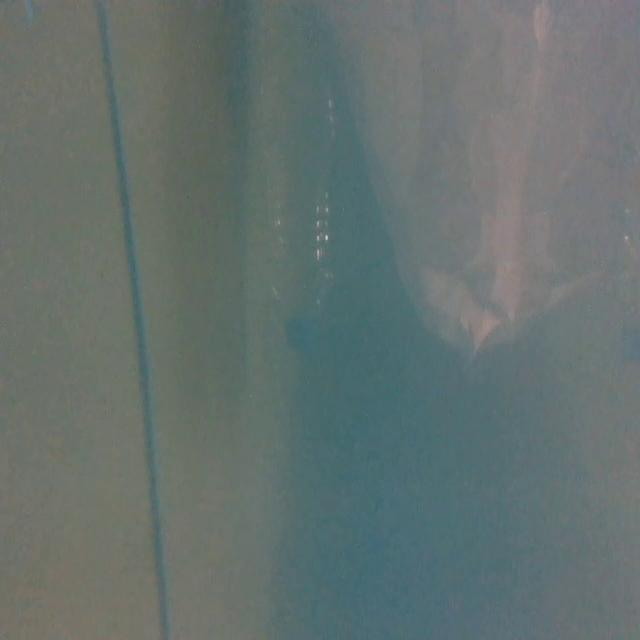plastic bags: (329, 5, 640, 360)
plastic bottle: (256, 106, 343, 353)
